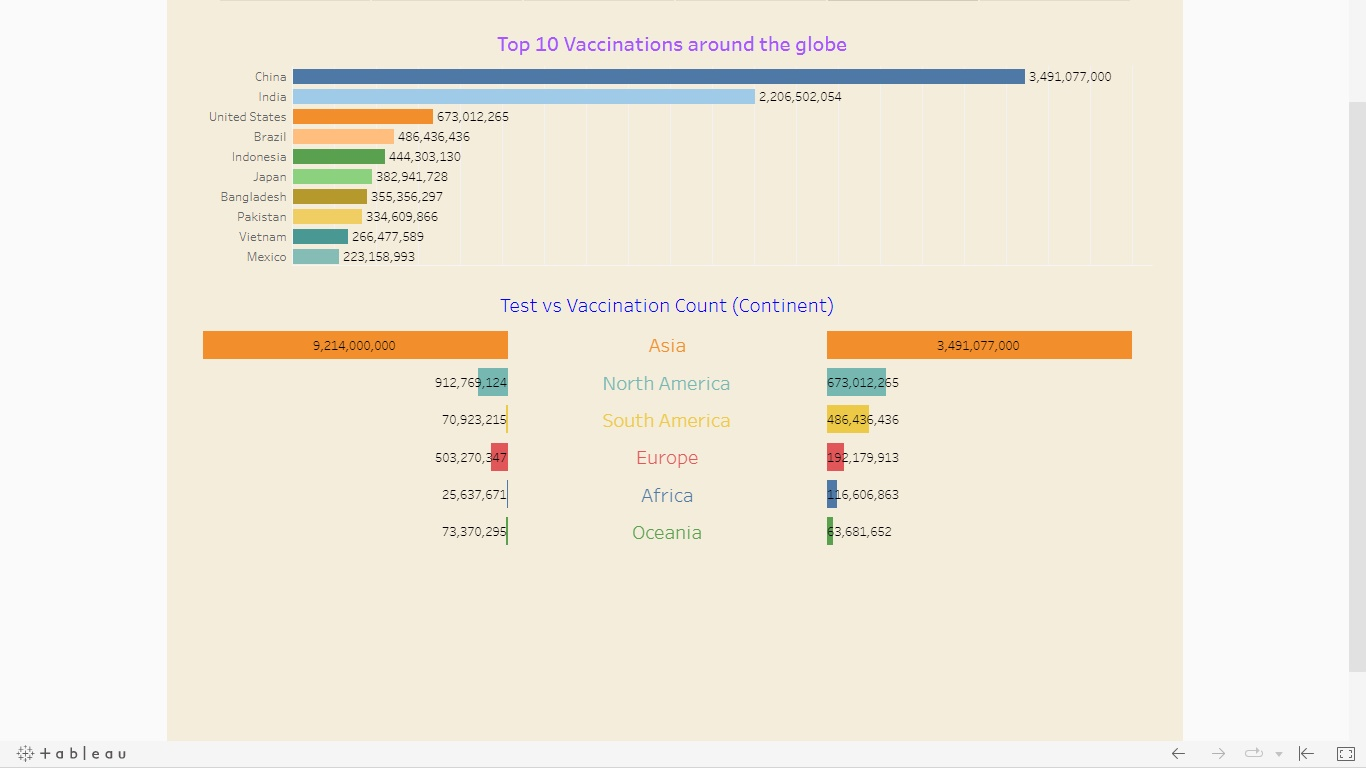

The dashboard page shown, as its layout file describes it:
{"tool":"tableau","page":{"name":"Dashboard 6","canvas":[1000,800],"ordinal":5},"visuals":[{"type":"worksheet","title":"Vaccination Count","mark":"Automatic","rows":["Location"],"cols":["TotalVaccinationCount"],"box":[17,11,961,282]},{"type":"worksheet","title":"Test vs Vaccination","mark":"Automatic","rows":["Continent"],"cols":["TotalTestCount","Calculation_176766299085176833","TotalVaccinationCount"],"box":[13,272,959,266]}]}

Visuals, with their boxes on the page's 1000x800 design canvas (x1, y1, x2, y2). These are canvas units, not pixel positions in the 1366x768 screenshot, which may show the page scaled, cropped or inside an application window:
"Vaccination Count" worksheet: rect(17, 11, 978, 293)
"Test vs Vaccination" worksheet: rect(13, 272, 972, 538)
